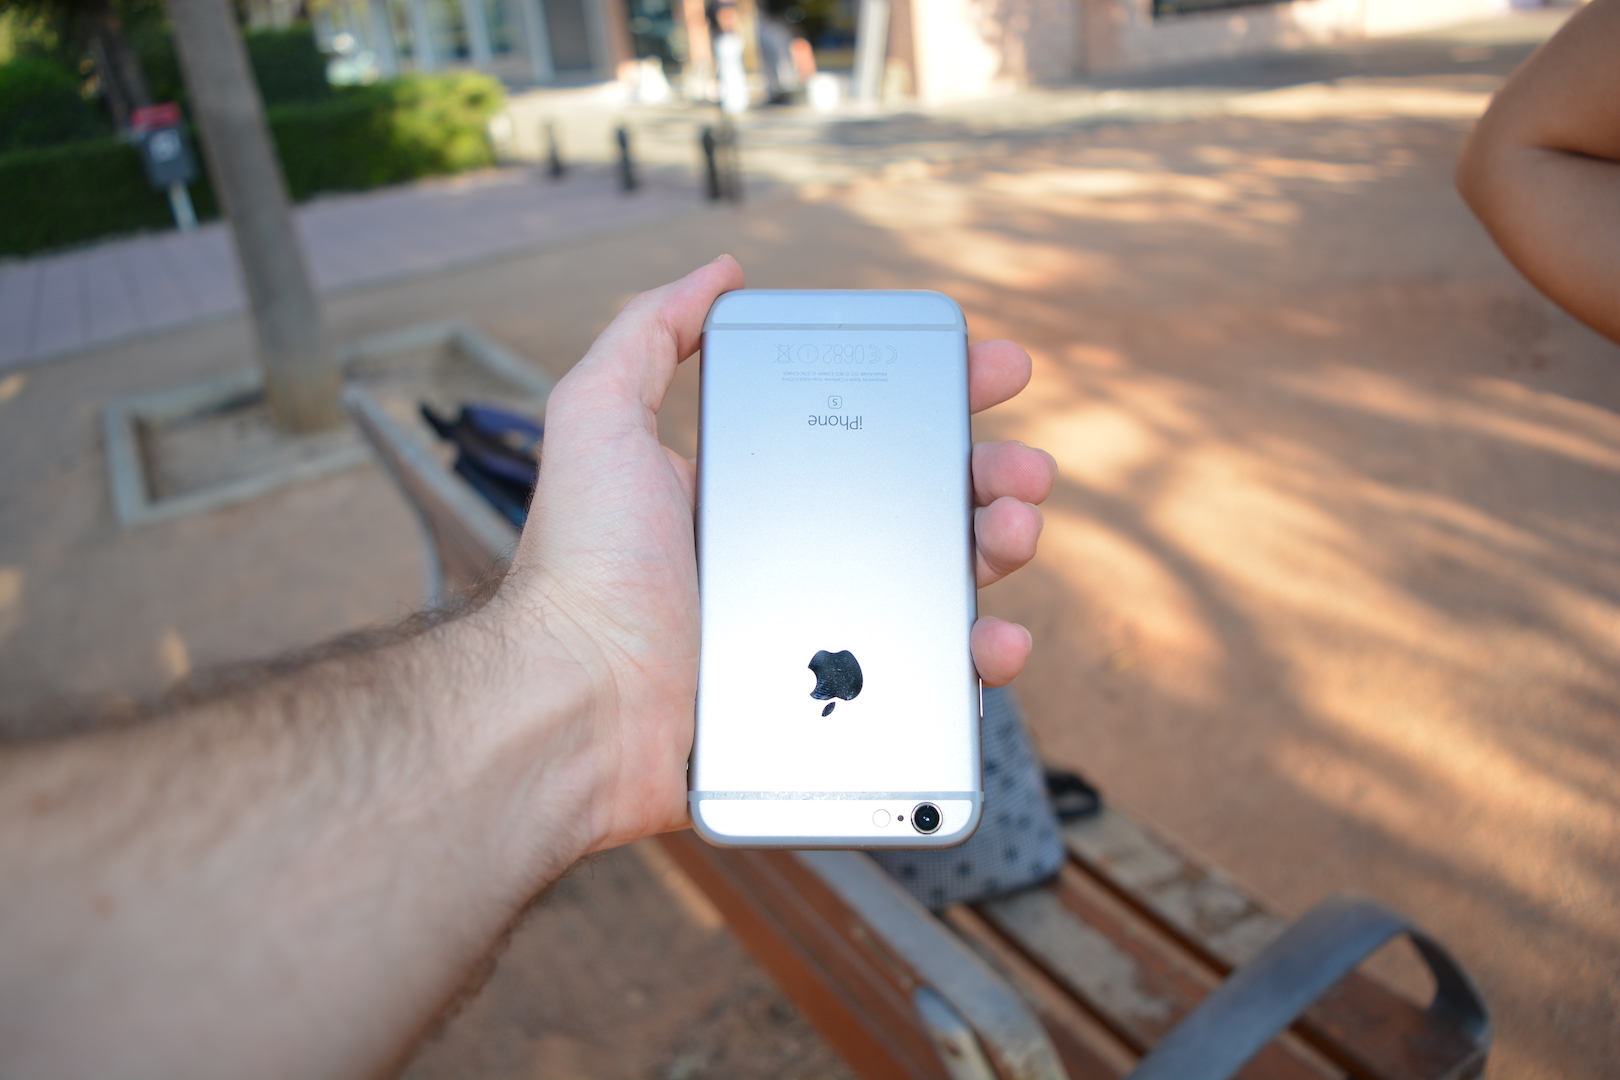smartphone: (685, 288, 986, 852)
